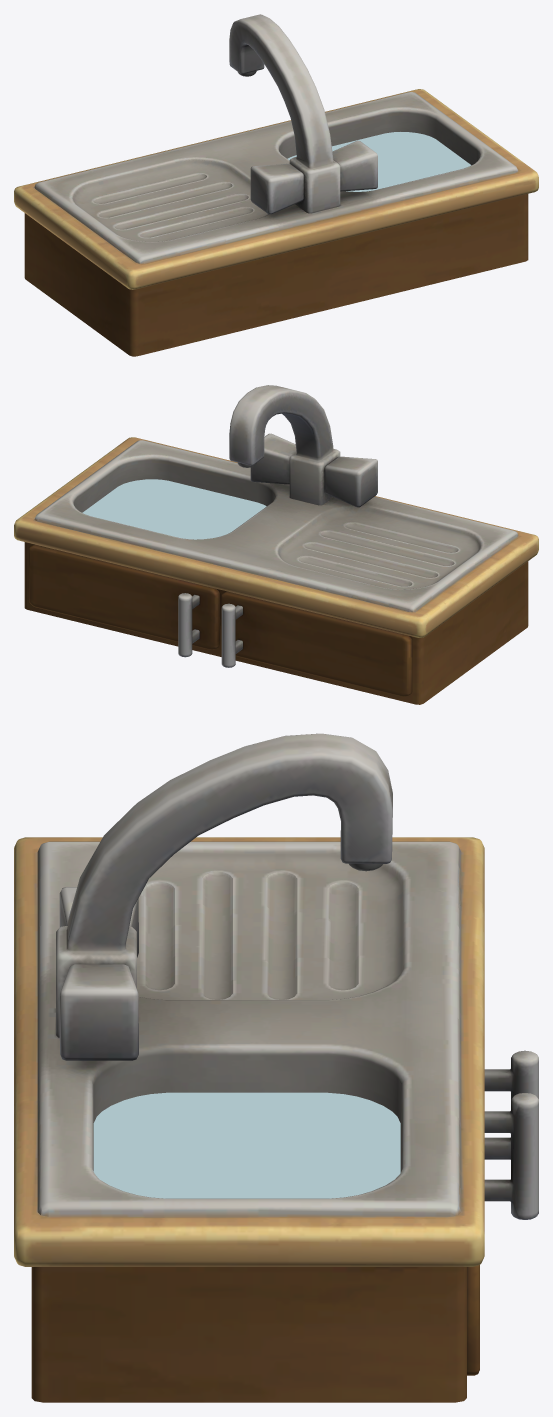
The model's file is Sink.fbx.
The picture shows the model from 3 angles, top to bottom: view 1: azimuth 30°, elevation 25°; view 2: azimuth 150°, elevation 25°; view 3: azimuth 270°, elevation 25°; orthographic projection. The views are drawn at different scales.
Visible parts, largest first — view 1: m_sk_sink_01, Water; view 2: m_sk_sink_01, Water; view 3: m_sk_sink_01, Water.
Boxes of the visible parts, box(x1,y1,x2,y2) form: m_sk_sink_01: box(14, 14, 538, 356); Water: box(287, 132, 471, 191); m_sk_sink_01: box(14, 385, 538, 704); Water: box(82, 479, 266, 539); m_sk_sink_01: box(14, 733, 538, 1402); Water: box(93, 1092, 400, 1198).
Size of the model in its own units: 240 by 131 by 134.
